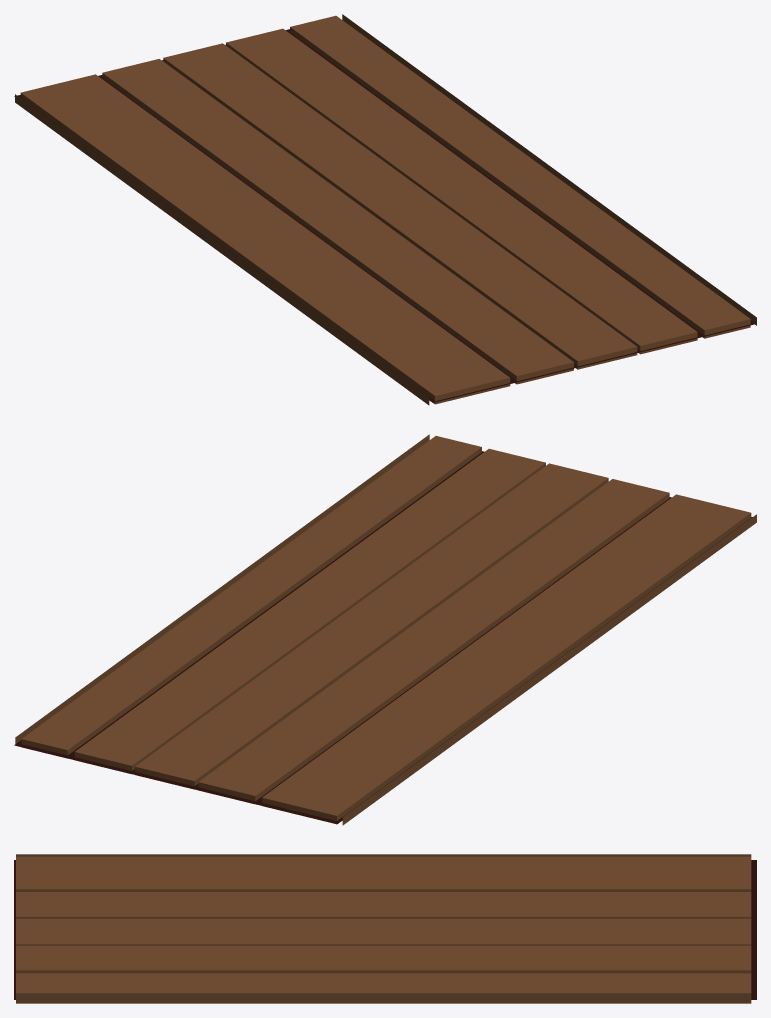
The model's file is Floor wood1.fbx.
3 views of the same model, one above another, from view 1: azimuth 30°, elevation 25°; view 2: azimuth 150°, elevation 25°; view 3: azimuth 270°, elevation 25° (orthographic). The views are drawn at different scales.
Visible parts, largest first — view 1: Floor wood1; view 2: Floor wood1; view 3: Floor wood1.
Part boxes in pixels (x1,y1,x2,y2): Floor wood1: [14, 14, 756, 405]; Floor wood1: [14, 434, 756, 825]; Floor wood1: [14, 854, 756, 1003].
Bounding box in the file's own units: 3.94 × 0.0968 × 8.71.
